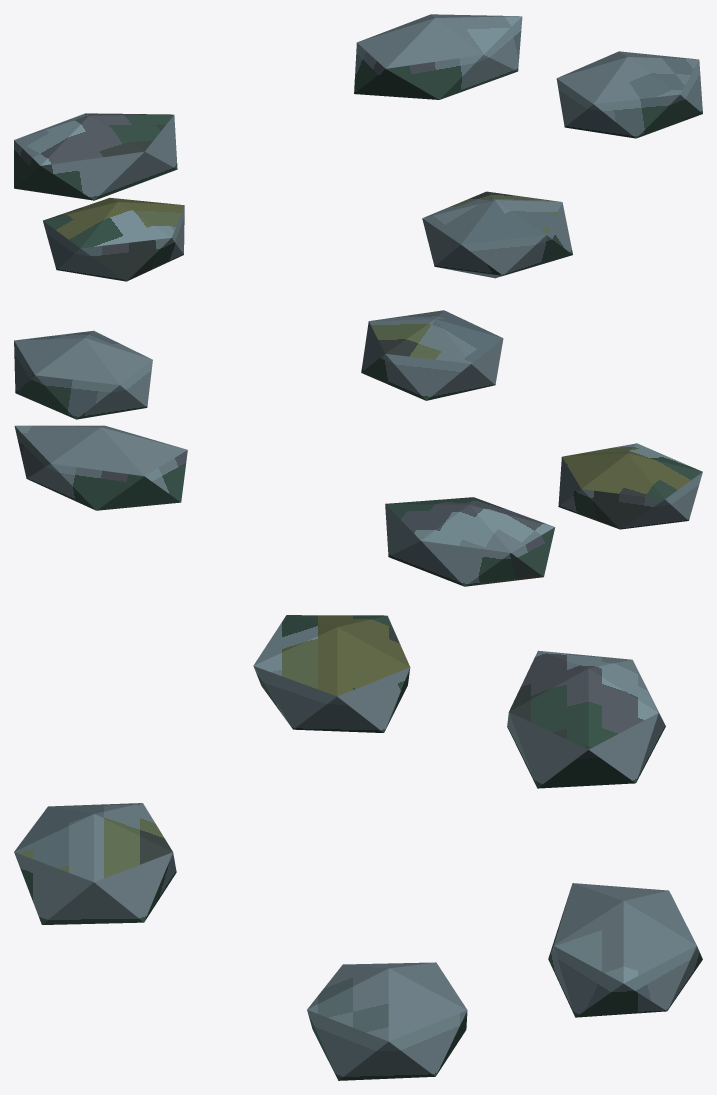
File: enfeite_seixos.fbx
3 renders of one model, top to bottom at view 1: azimuth 30°, elevation 25°; view 2: azimuth 150°, elevation 25°; view 3: azimuth 270°, elevation 25°, orthographic. The views are drawn at different scales.
Visible parts, largest first — view 1: bosque_enfeite_seixos; view 2: bosque_enfeite_seixos; view 3: bosque_enfeite_seixos.
Boxes of the visible parts, box(x1,y1,x2,y2) form: bosque_enfeite_seixos: box(14, 14, 702, 281); bosque_enfeite_seixos: box(14, 310, 702, 586); bosque_enfeite_seixos: box(14, 615, 702, 1080).
Size of the model in its own units: 44.73 by 5.23 by 30.27.
1 material, 1 textured.
